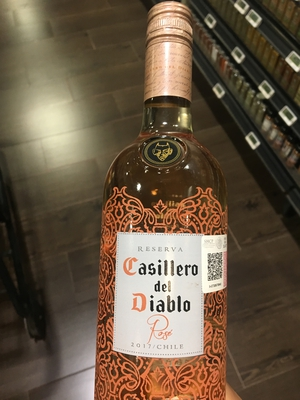casillero del diablo rose: (94, 1, 238, 400)
